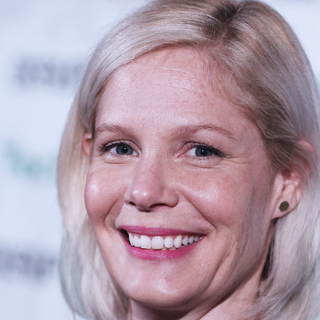eye: (171, 139, 224, 165), (97, 136, 145, 162)
